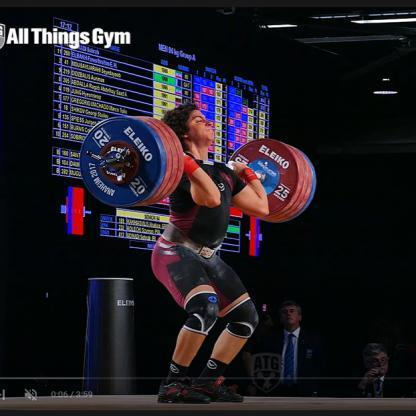barbell: (80, 115, 318, 222)
